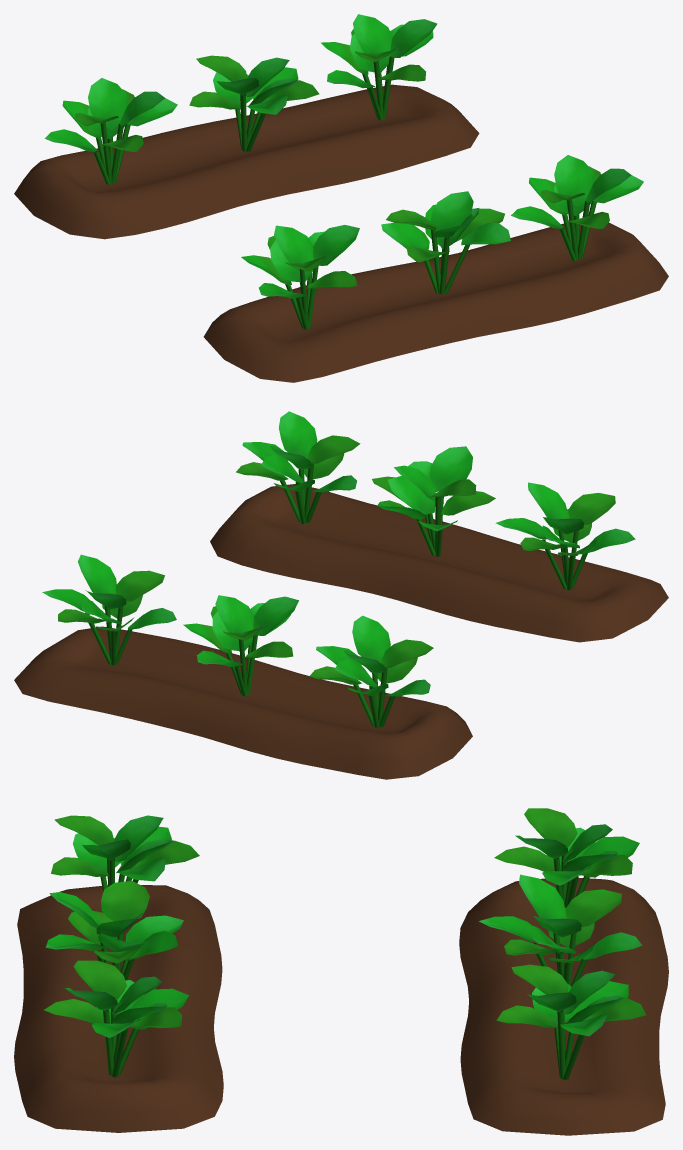
File: Beetroot3.fbx
3 views of the same model, one above another, from view 1: azimuth 30°, elevation 25°; view 2: azimuth 150°, elevation 25°; view 3: azimuth 270°, elevation 25° (orthographic). The views are drawn at different scales.
Parts seen in each view (by area): view 1: 3; view 2: 3; view 3: 3.
Part boxes in pixels (bbox=[...]): 3: bbox=[14, 14, 668, 382]; 3: bbox=[14, 411, 668, 779]; 3: bbox=[14, 808, 668, 1135].
Size of the model in its own units: 272 by 62.92 by 310.
